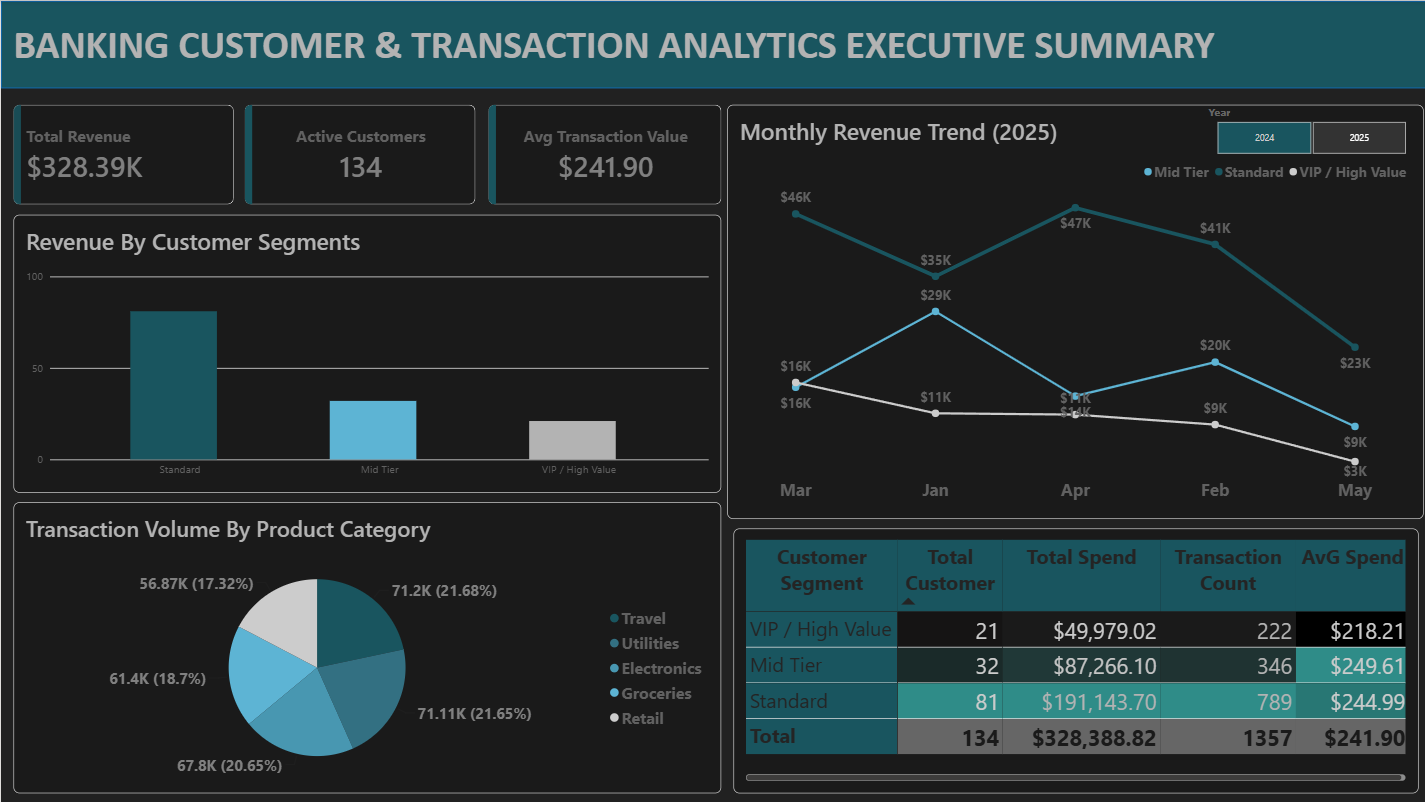

What the dashboard file says about the page in this screenshot:
{"tool":"powerbi","page":{"name":"Page 1","canvas":[1920,1080],"ordinal":0},"visuals":[{"type":"shape","box":[0,0,1920.4,117.3],"z":0},{"type":"textbox","box":[16.5,26.8,1904,65.9],"z":1000},{"type":"cardVisual","fields":{"Data":["Sum(vw_customer_transaction_summary.total_spend)"]},"box":[17.3,138.7,296.6,134.8],"z":5000},{"type":"cardVisual","fields":{"Data":["Count(vw_customer_transaction_summary.customer_id)"]},"box":[327.4,138.7,310.1,134.8],"z":6000},{"type":"cardVisual","fields":{"Data":["Avg(vw_customer_transaction_summary.avg_transaction_size)"]},"box":[654.9,138.7,314,134.8],"z":7000},{"type":"lineChart","title":"Monthly Revenue Trend (2025)","fields":{"Category":["vw_customer_transaction_summary.MonthName"],"Series":["vw_customer_transaction_summary.customer_segment"],"Y":["Sum(vw_customer_transaction_summary.total_spend)"]},"box":[976.6,138.7,936.1,556.7],"z":8000},{"type":"columnChart","title":"Revenue By Customer Segments","fields":{"Category":["vw_customer_transaction_summary.customer_segment"],"Y":["CountNonNull(vw_customer_transaction_summary.total_transactions)"]},"box":[17.3,287,951.5,373.7],"z":9000},{"type":"pieChart","title":"Transaction Volume By Product Category","fields":{"Category":["transactions.product_category"],"Y":["Sum(transactions.transaction_amount)"]},"box":[17.3,674.2,951.5,391],"z":10000},{"type":"pivotTable","fields":{"Rows":["vw_customer_transaction_summary.customer_segment"],"Values":["Count(transactions.customer_id)","Sum(vw_customer_transaction_summary.total_spend)","Sum(vw_customer_transaction_summary.total_transactions)","Avg(vw_customer_transaction_summary.avg_transaction_size)"]},"box":[984.3,708.8,920.7,356.3],"z":11000},{"type":"slicer","fields":{"Values":["vw_customer_transaction_summary.Year"]},"box":[1614,140.7,292.8,65.8],"z":11001}]}

Visuals, with their boxes in screenshot pixels (x1, y1, x2, y2), scaled from the page's 1920x1080 canvas onto the 1425x802 screenshot:
shape: rect(0, 0, 1424, 87)
textbox: rect(12, 20, 1424, 69)
cardVisual - Sum(vw_customer_transaction_summary.total_spend): rect(13, 103, 233, 203)
cardVisual - Count(vw_customer_transaction_summary.customer_id): rect(243, 103, 473, 203)
cardVisual - Avg(vw_customer_transaction_summary.avg_transaction_size): rect(486, 103, 719, 203)
"Monthly Revenue Trend (2025)" lineChart: rect(725, 103, 1420, 516)
"Revenue By Customer Segments" columnChart: rect(13, 213, 719, 491)
"Transaction Volume By Product Category" pieChart: rect(13, 501, 719, 791)
pivotTable - vw_customer_transaction_summary.customer_segment x Count(transactions.customer_id): rect(731, 526, 1414, 791)
slicer - vw_customer_transaction_summary.Year: rect(1198, 104, 1415, 153)
